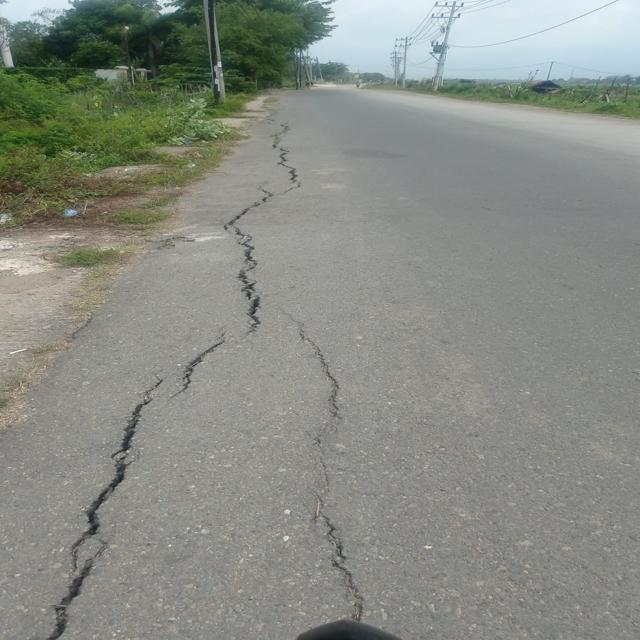Memanjang: (33, 122, 308, 640), (280, 317, 384, 640)
